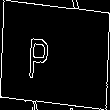P_N: (44, 28, 66, 82)
